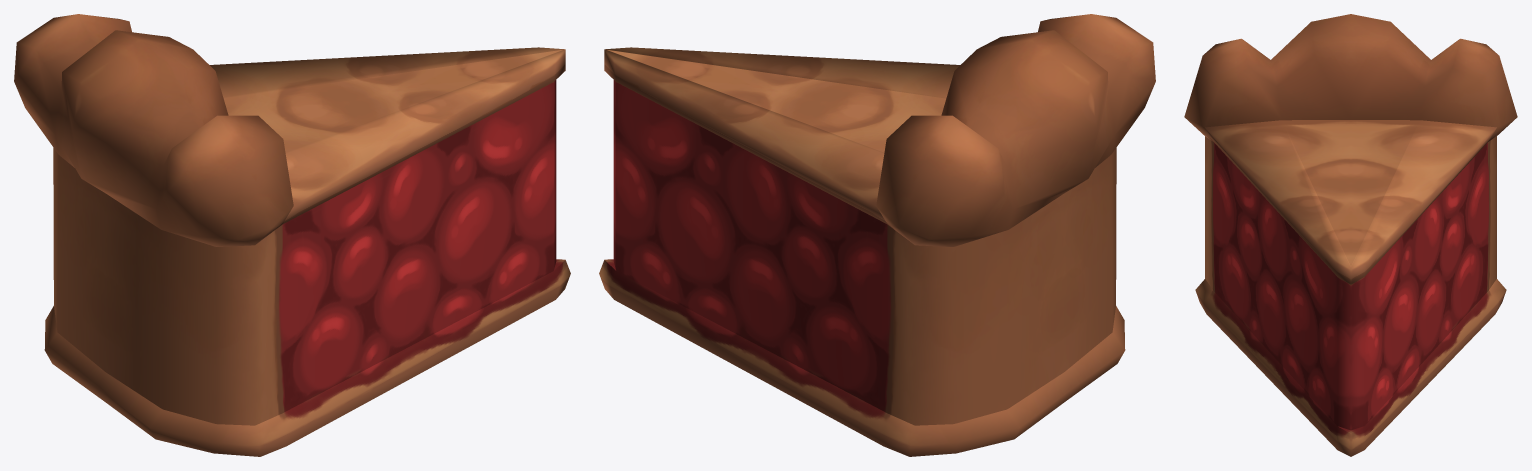
The model's file is pie-low-poly.fbx.
The picture shows the model from 3 angles, left to right: view 1: azimuth 30°, elevation 25°; view 2: azimuth 150°, elevation 25°; view 3: azimuth 270°, elevation 25°; orthographic projection. The views are drawn at different scales.
Visible parts, largest first — view 1: taco; view 2: taco; view 3: taco.
Boxes of the visible parts, <box> form: taco: <box>14,14,570,456</box>; taco: <box>599,14,1155,456</box>; taco: <box>1184,14,1517,456</box>.
Size of the model in its own units: 12.84 by 8.69 by 9.42.
1 material, 1 textured.
